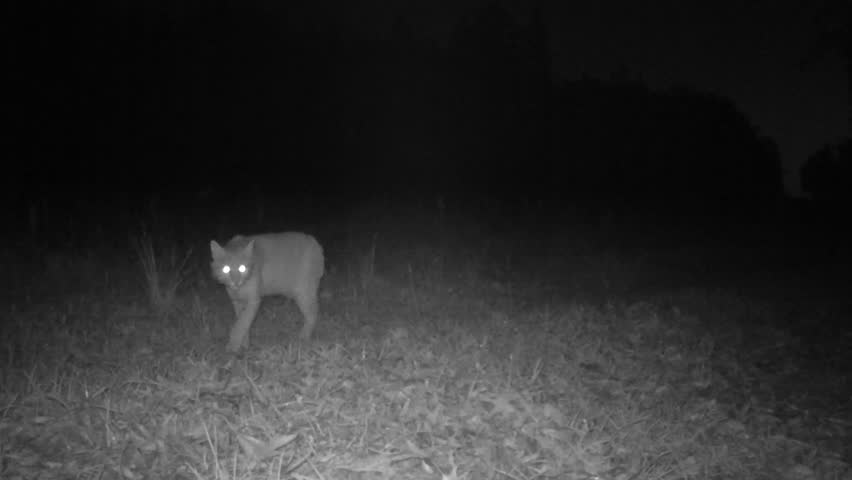bobcat: (213, 217, 346, 367)
